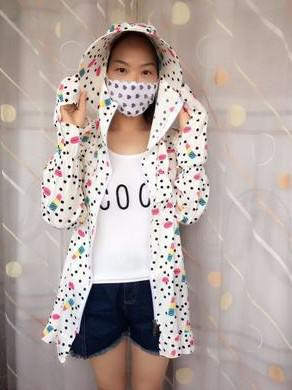OK: (109, 55, 167, 113)
